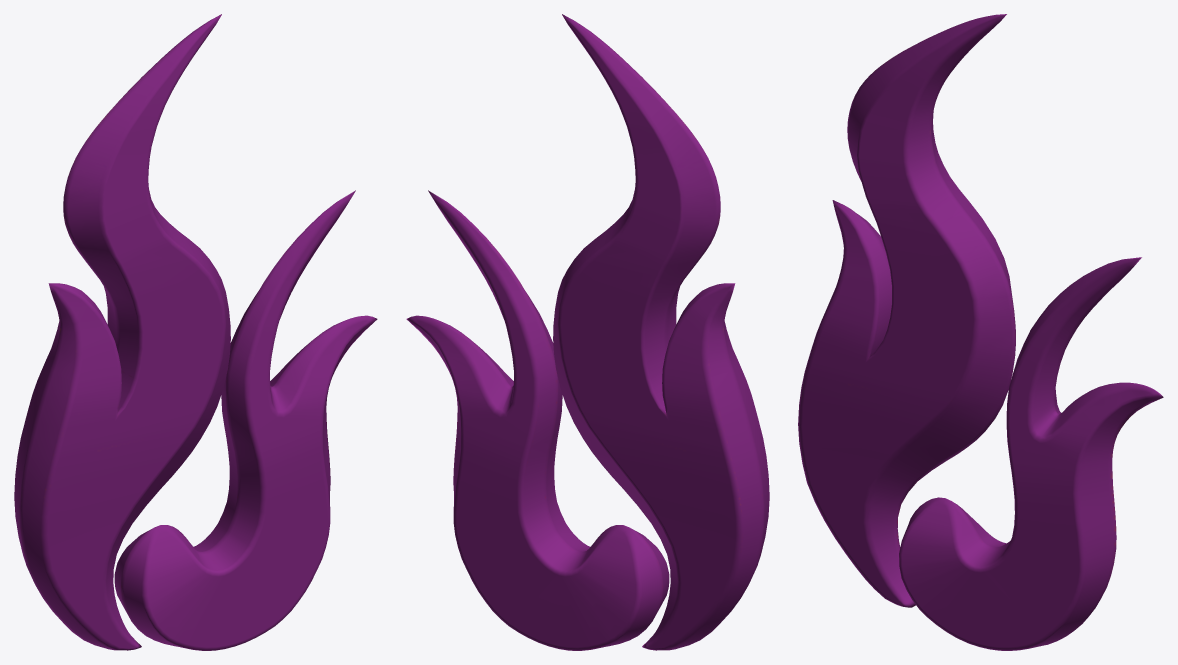
Rendered from Magic Resist.fbx.
3 renders of one model, left to right at view 1: azimuth 30°, elevation 25°; view 2: azimuth 150°, elevation 25°; view 3: azimuth 330°, elevation 25°, orthographic.
Parts seen in each view (by area): view 1: node_id132; view 2: node_id132; view 3: node_id132.
Boxes of the visible parts, box(x1,y1,x2,y2) form: node_id132: box(14, 14, 377, 650); node_id132: box(406, 14, 769, 650); node_id132: box(798, 14, 1163, 650).
Size of the model in its own units: 0.1589 by 0.267 by 0.0262.
Materials: 1 (1 with a texture image).
